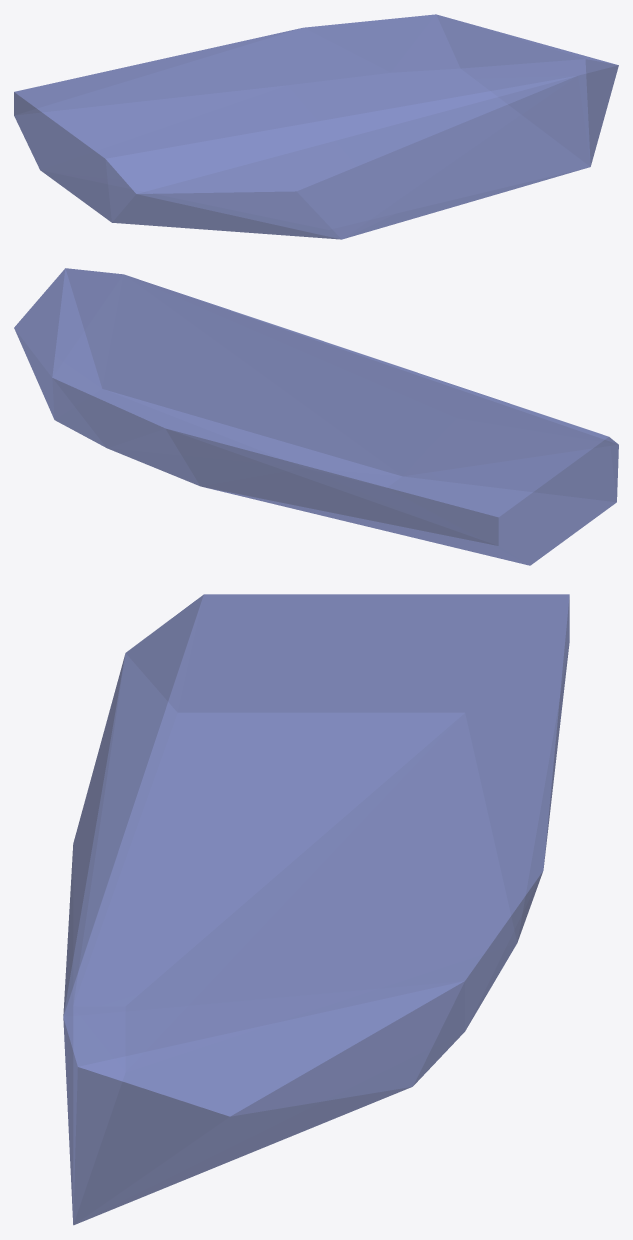
The picture shows the model from 3 angles, top to bottom: view 1: azimuth 30°, elevation 25°; view 2: azimuth 150°, elevation 25°; view 3: azimuth 270°, elevation 25°; orthographic projection. The views are drawn at different scales.
Visible parts, largest first — view 1: Shape_IndexedFaceSet.025_Shape_IndexedFaceSet.4482; view 2: Shape_IndexedFaceSet.025_Shape_IndexedFaceSet.4482; view 3: Shape_IndexedFaceSet.025_Shape_IndexedFaceSet.4482.
Boxes of the visible parts, left/top/right/bottom form: Shape_IndexedFaceSet.025_Shape_IndexedFaceSet.4482: left=14, top=14, right=618, bottom=239; Shape_IndexedFaceSet.025_Shape_IndexedFaceSet.4482: left=14, top=268, right=618, bottom=565; Shape_IndexedFaceSet.025_Shape_IndexedFaceSet.4482: left=63, top=594, right=569, bottom=1225.
Bounding box in the file's own units: 0.1071 × 0.0229 × 0.0482.
